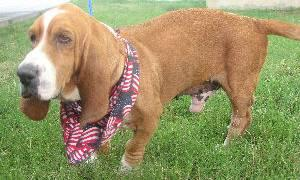dog: (17, 3, 300, 170)
